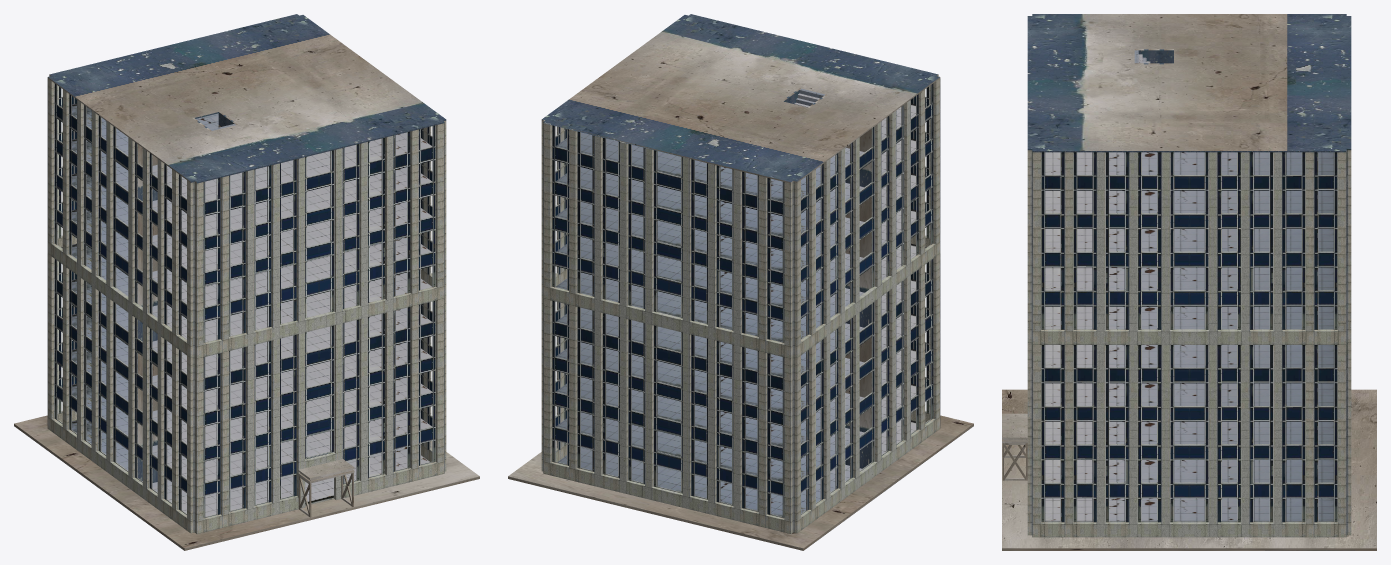
File: BagSS02base_high.fbx
The picture shows the model from 3 angles, left to right: view 1: azimuth 30°, elevation 25°; view 2: azimuth 150°, elevation 25°; view 3: azimuth 270°, elevation 25°; orthographic projection. The views are drawn at different scales.
Visible parts, largest first — view 1: baseMain700, baseA700, baseFloor700, baseBase0, basewalls700; view 2: baseMain700, baseA700, baseFloor700, baseBase0, basewalls700; view 3: baseMain700, baseA700, baseFloor700, baseBase0.
Part boxes in pixels (x1=…): baseMain700: x1=47, y1=76, x2=446, y2=533; baseA700: x1=47, y1=14, x2=446, y2=517; baseFloor700: x1=61, y1=103, x2=432, y2=516; baseBase0: x1=14, y1=415, x2=479, y2=550; basewalls700: x1=138, y1=144, x2=157, y2=482; baseMain700: x1=541, y1=76, x2=940, y2=533; baseA700: x1=541, y1=14, x2=940, y2=183; baseFloor700: x1=555, y1=103, x2=926, y2=516; baseBase0: x1=508, y1=415, x2=973, y2=550; basewalls700: x1=845, y1=128, x2=871, y2=468; baseMain700: x1=1027, y1=150, x2=1351, y2=537; baseA700: x1=1002, y1=14, x2=1351, y2=480; baseFloor700: x1=1045, y1=152, x2=1333, y2=521; baseBase0: x1=1002, y1=389, x2=1376, y2=550.
Size of the model in its own units: 55.78 by 63.94 by 55.78.
